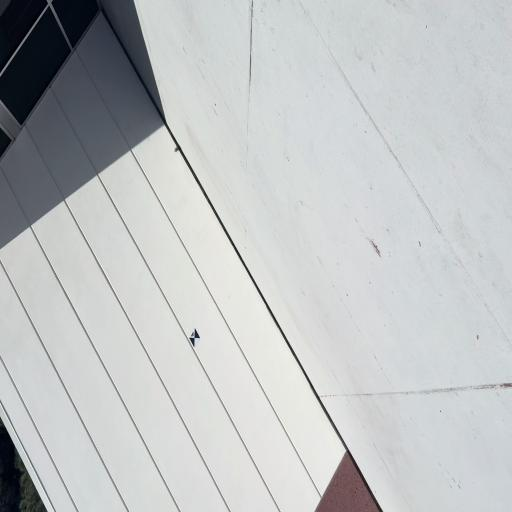target4: (189, 327, 200, 348)
